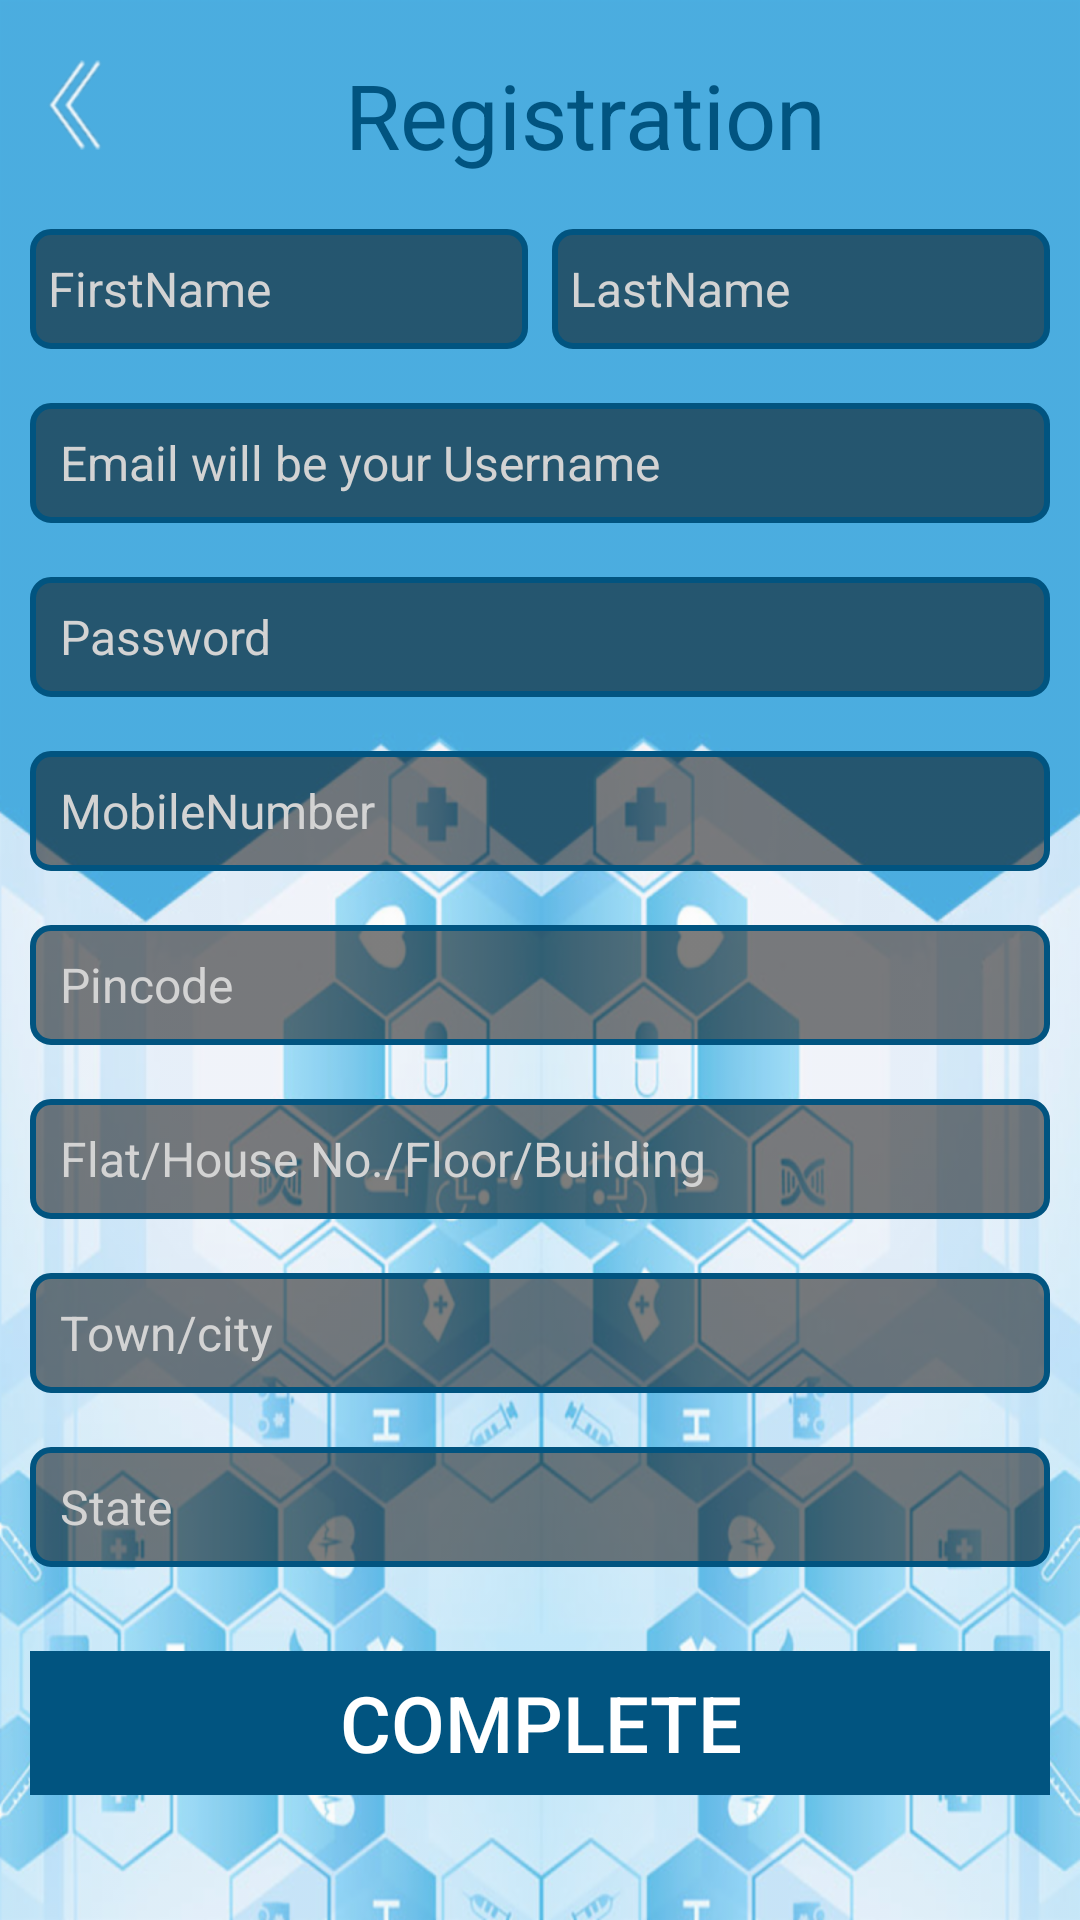

Icons on this 1080px x 1920px Android screen, each with its box as detection(x1, y1, x2, y2):
back: detection(50, 60, 100, 150)
